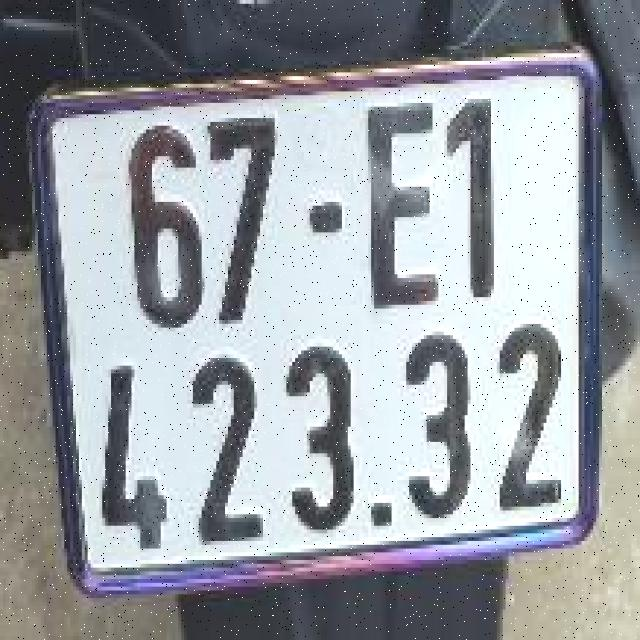1: (447, 80, 509, 335)
2: (182, 341, 264, 554), (494, 322, 573, 520)
3: (399, 322, 478, 543), (273, 334, 358, 536)
4: (92, 339, 177, 571)
6: (121, 109, 209, 337)
7: (198, 109, 280, 334)
E: (343, 80, 446, 324)
